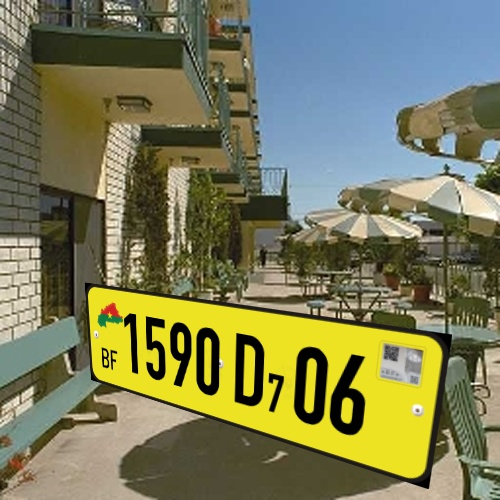plate: (69, 267, 460, 500)
